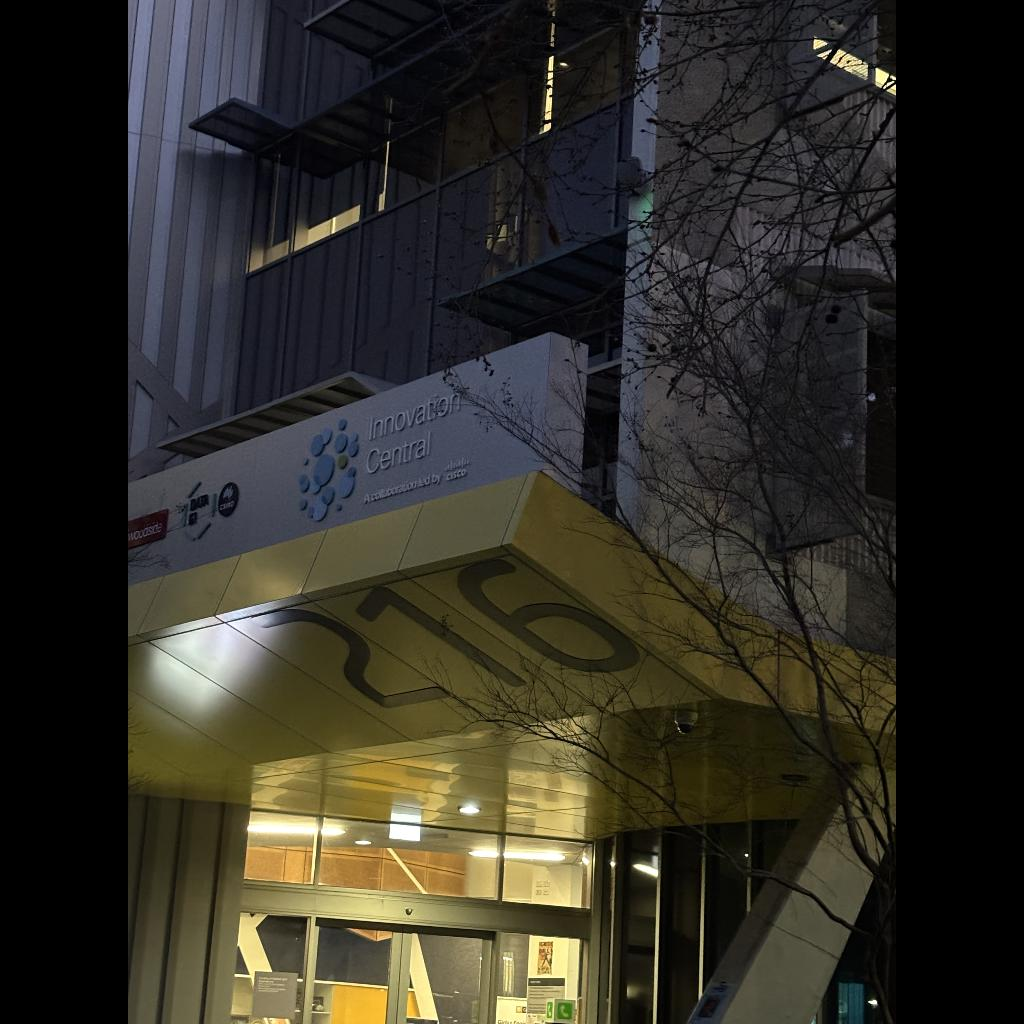BuildingCodes: (244, 551, 654, 715)
